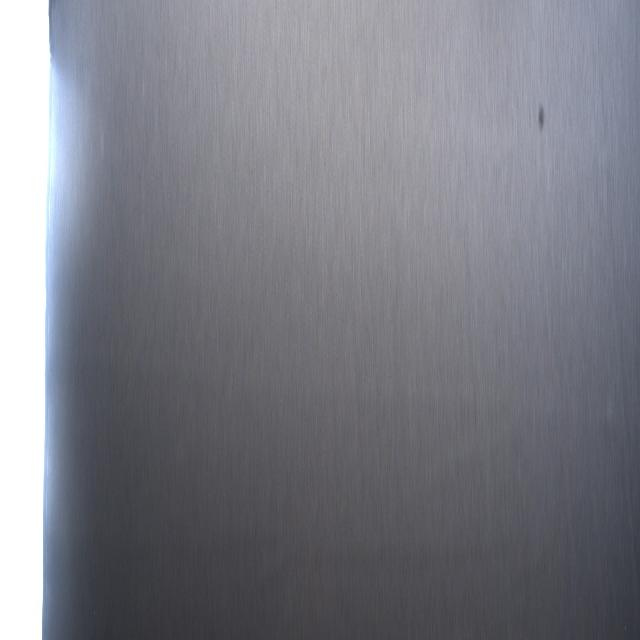crease: (293, 375, 635, 439), (602, 196, 639, 607), (544, 248, 582, 606), (465, 249, 493, 513)
